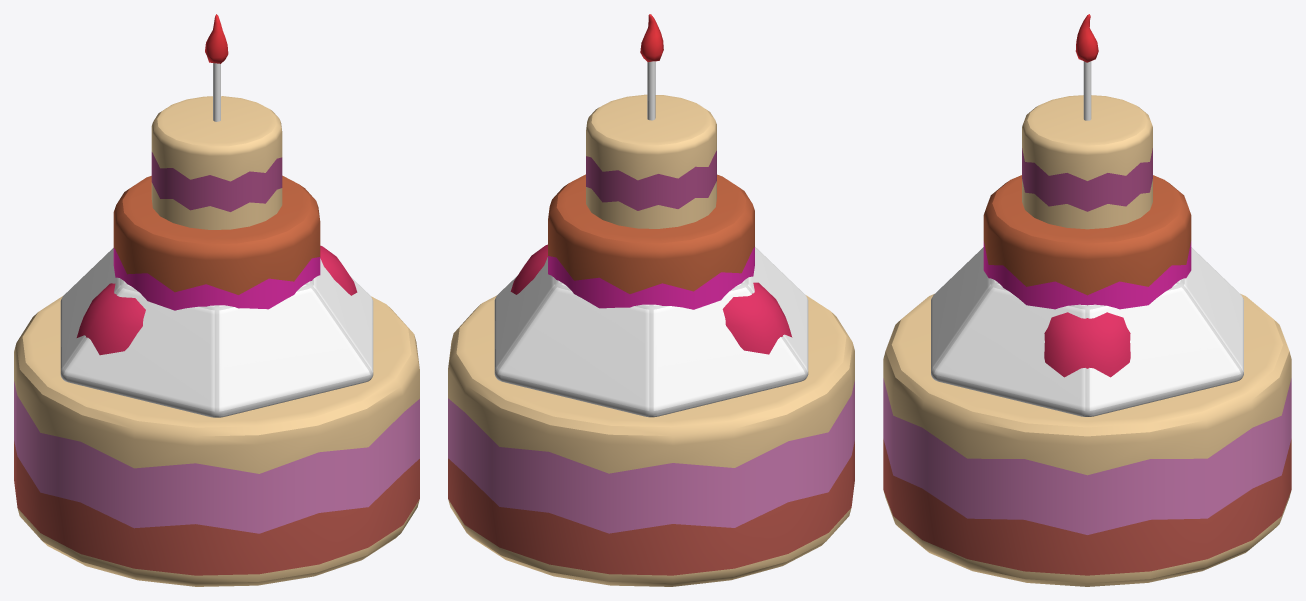
Rendered from Diamond_hearth_cake.fbx.
3 renders of one model, left to right at view 1: azimuth 30°, elevation 25°; view 2: azimuth 150°, elevation 25°; view 3: azimuth 270°, elevation 25°, orthographic.
Visible parts, largest first — view 1: Cake, Diamond, Hearth; view 2: Cake, Diamond, Hearth; view 3: Cake, Diamond, Hearth.
Boxes of the visible parts, x1,y1,x2,y2 form: Cake: (14, 14, 419, 586); Diamond: (60, 248, 373, 417); Hearth: (76, 245, 357, 355); Cake: (448, 14, 854, 586); Diamond: (494, 247, 808, 417); Hearth: (510, 244, 792, 354); Cake: (883, 14, 1291, 586); Diamond: (931, 247, 1243, 416); Hearth: (1044, 312, 1130, 377).
Bounding box in the file's own units: 816 × 1105 × 816.
